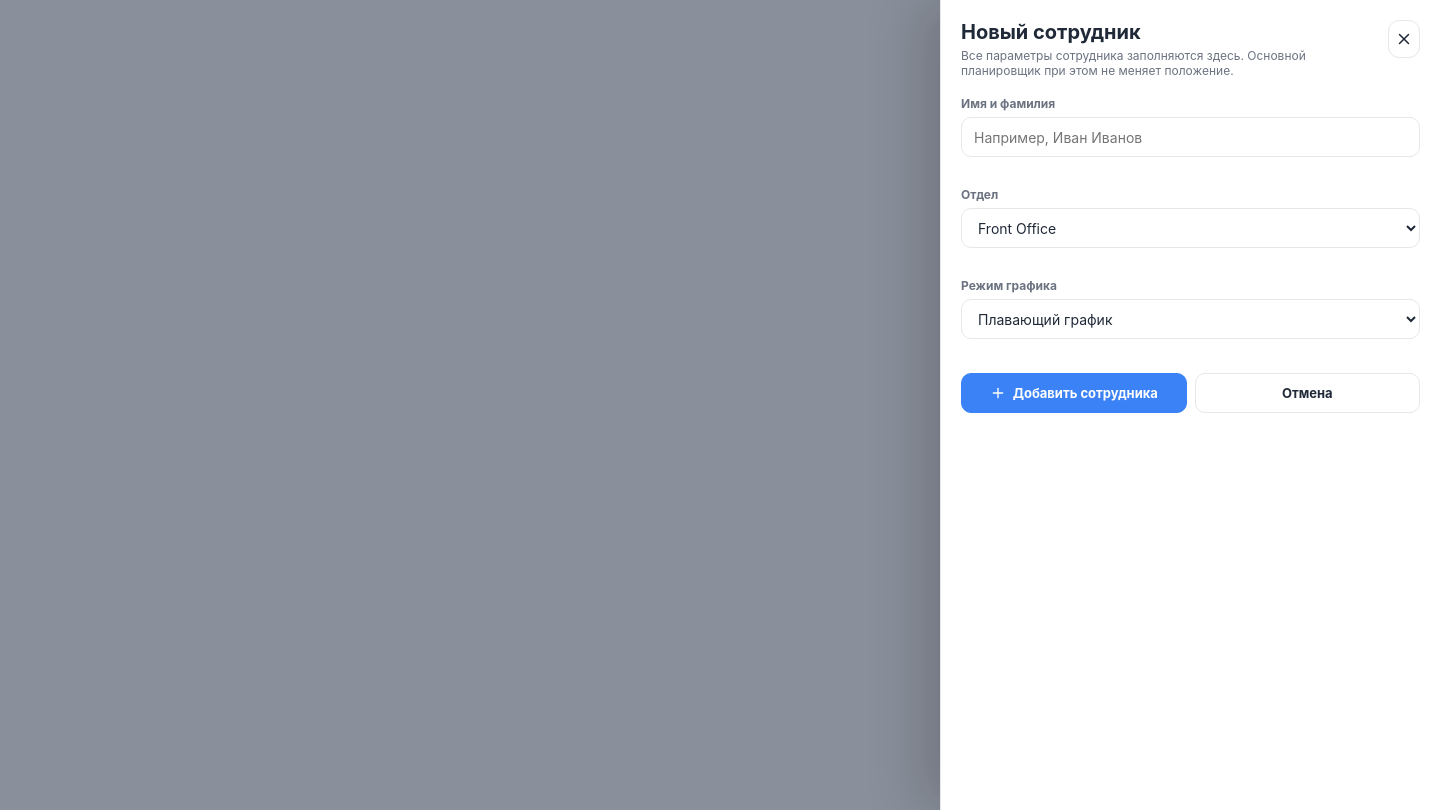
Test: EmployeeCreateDrawer schedule fields › shows fixed working time only for the 5/2 schedule mode
Check: the text "Рабочее время 5/2" is not shown
Select "5/2 · фиксированные часы" in the dropdown below "Режим графика": (1190, 319) top-left (961, 299), bottom-right (1420, 339)
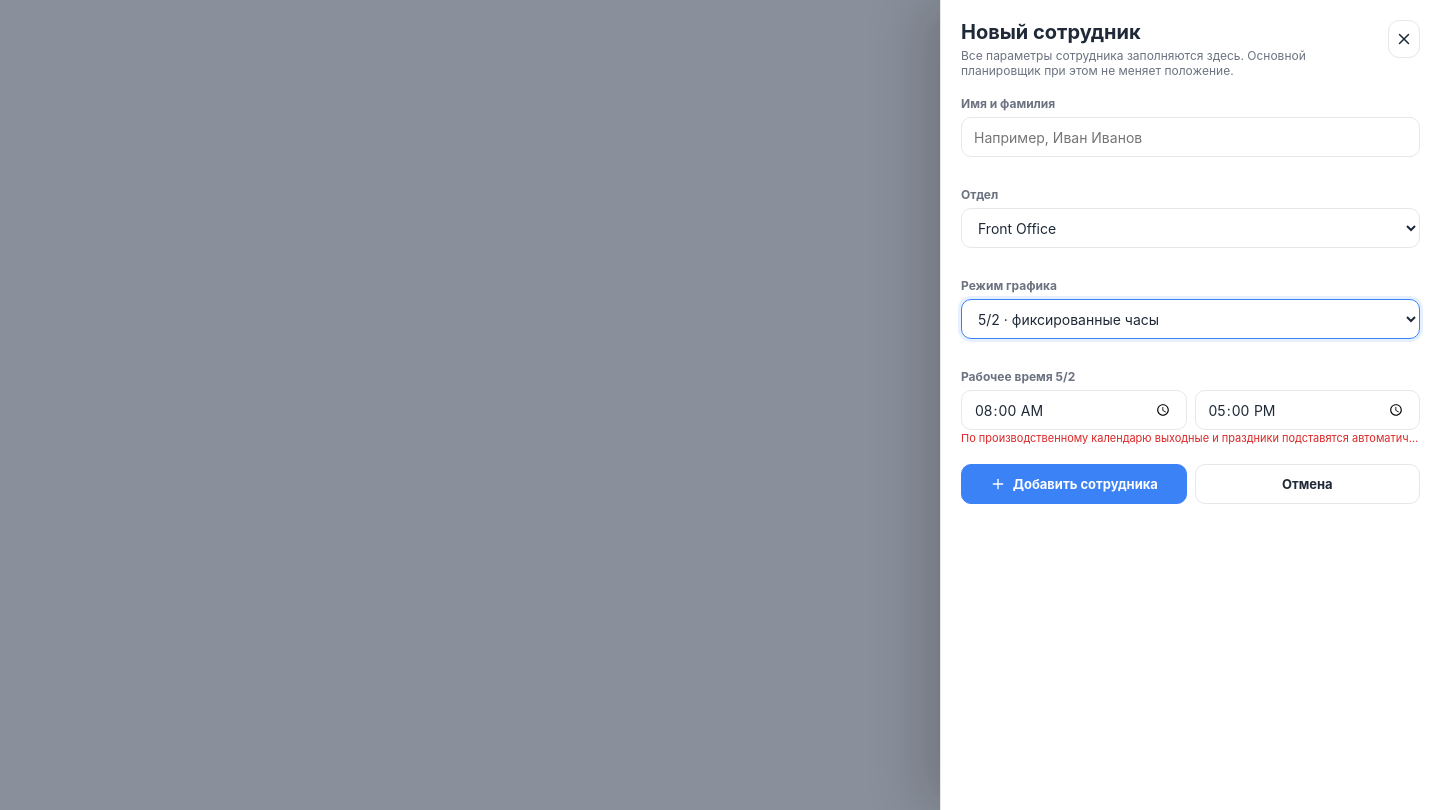
Check: the text "Рабочее время 5/2" is shown, box top-left (961, 369), bottom-right (1075, 384)
Check: the time field named "Начало рабочего дня" is shown, box top-left (961, 390), bottom-right (1186, 430)
Check: the time field named "Окончание рабочего дня" is shown, box top-left (1194, 390), bottom-right (1420, 430)
Select "Плавающий график" in the dropdown below "Режим графика": (1190, 319) top-left (961, 299), bottom-right (1420, 339)
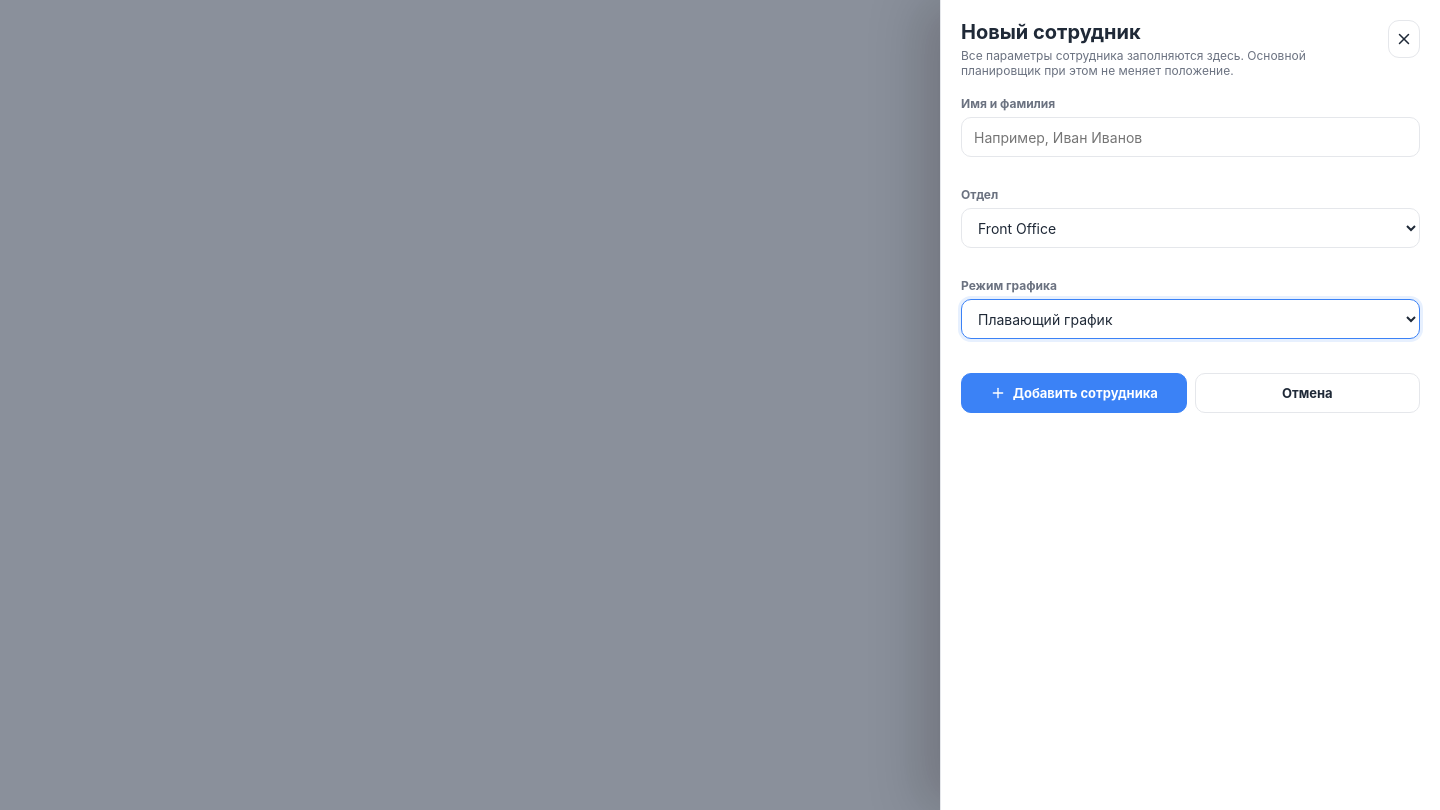
Check: the text "Рабочее время 5/2" is gone
